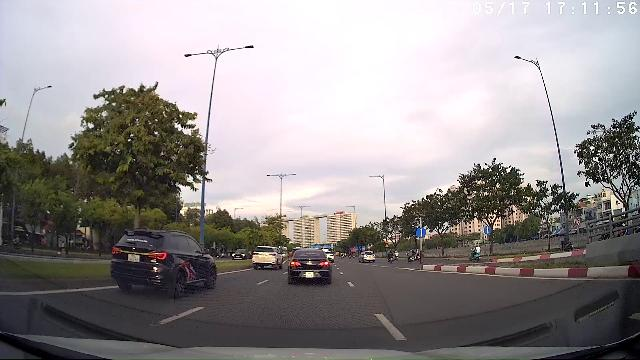301a-cac-xe-chi-duoc-di-thang: (416, 227, 426, 237), (484, 226, 492, 234)
